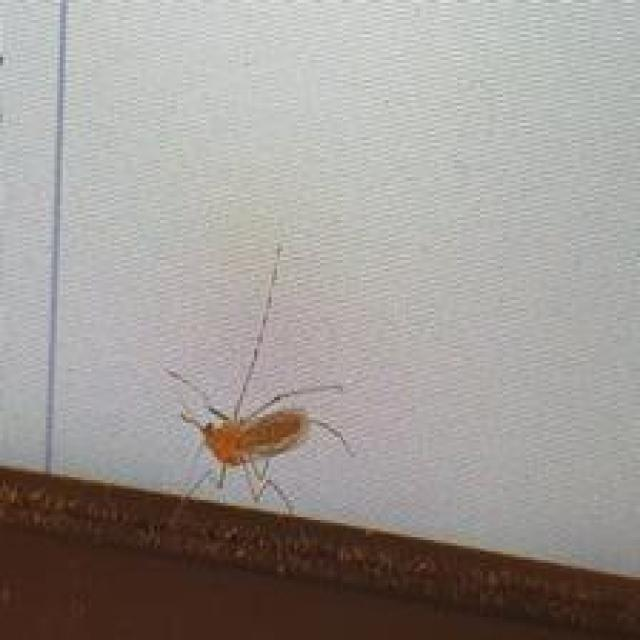Culex: (154, 240, 354, 537)
